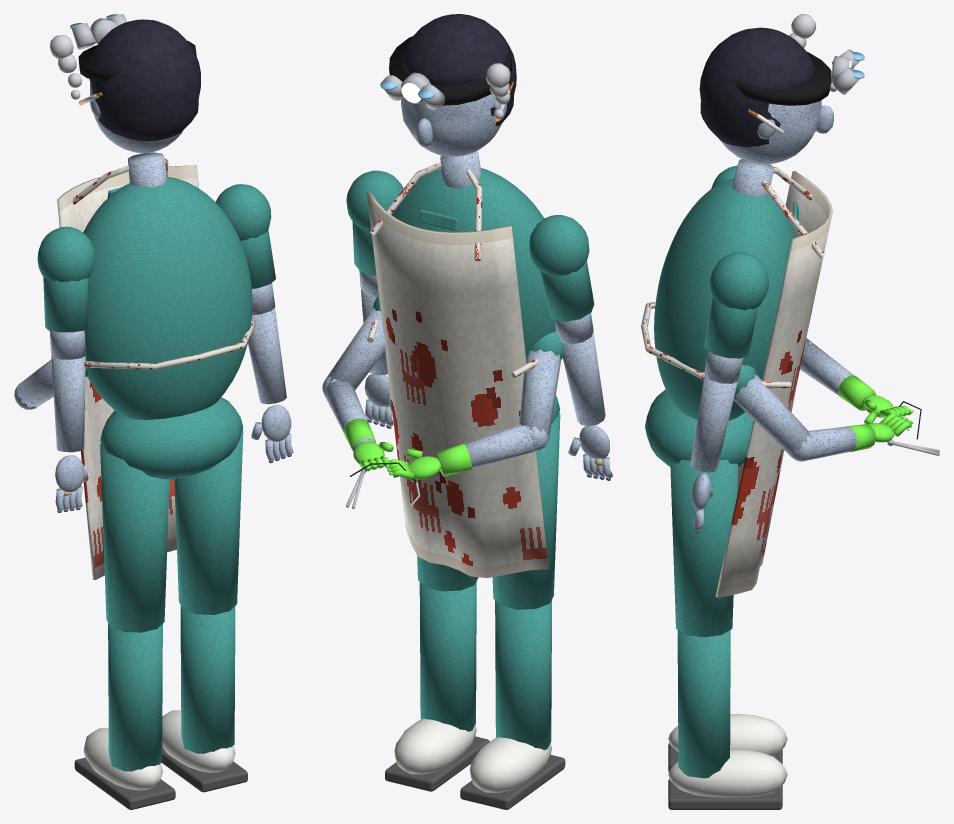
Rendered from c_bev.glb.
3 views of the same model, side by side, from view 1: azimuth 30°, elevation 25°; view 2: azimuth 150°, elevation 25°; view 3: azimuth 270°, elevation 25° (orthographic). The views are drawn at different scales.
Visible parts, largest first — view 1: part_spine, part_head, part_kneeL, part_kneeR, part_legL, part_legR, part_body, part_armL, part_arm, part_foreL, part_foreR, part_handR (+1 smaller); view 2: part_spine, part_head, part_kneeL, part_kneeR, part_armL, part_legL, part_arm, part_foreL, part_handL, part_legR, part_handR, part_foreR; view 3: part_spine, part_head, part_kneeR, part_legR, part_arm, part_body, part_foreR, part_kneeL, part_handR.
Part boxes in pixels (left/top/right/bottom): part_spine: left=14, top=152, right=255, bottom=579; part_head: left=49, top=14, right=200, bottom=152; part_kneeL: left=74, top=623, right=175, bottom=809; part_kneeR: left=161, top=606, right=247, bottom=792; part_legL: left=100, top=444, right=169, bottom=632; part_legR: left=174, top=429, right=243, bottom=614; part_body: left=100, top=397, right=242, bottom=479; part_armL: left=37, top=226, right=94, bottom=359; part_arm: left=216, top=184, right=275, bottom=315; part_foreL: left=51, top=356, right=85, bottom=452; part_foreR: left=248, top=308, right=286, bottom=404; part_handR: left=251, top=404, right=293, bottom=463; part_spine: left=322, top=151, right=563, bottom=577; part_head: left=380, top=14, right=516, bottom=156; part_kneeL: left=460, top=600, right=565, bottom=809; part_kneeR: left=385, top=582, right=489, bottom=791; part_armL: left=529, top=215, right=594, bottom=344; part_legL: left=492, top=413, right=560, bottom=609; part_arm: left=346, top=170, right=403, bottom=296; part_foreL: left=562, top=332, right=605, bottom=426; part_handL: left=568, top=425, right=612, bottom=480; part_legR: left=417, top=555, right=478, bottom=591; part_handR: left=364, top=374, right=393, bottom=428; part_foreR: left=361, top=289, right=387, bottom=375; part_spine: left=641, top=159, right=939, bottom=597; part_head: left=699, top=14, right=864, bottom=163; part_kneeR: left=668, top=630, right=787, bottom=809; part_legR: left=670, top=459, right=737, bottom=637; part_arm: left=704, top=252, right=768, bottom=383; part_body: left=645, top=389, right=753, bottom=466; part_foreR: left=690, top=374, right=737, bottom=472; part_kneeL: left=668, top=714, right=787, bottom=771; part_handR: left=691, top=473, right=712, bottom=533.
Size of the model in its own units: 0.6514 by 1.95 by 0.7054.
18 materials, 4 textured.
